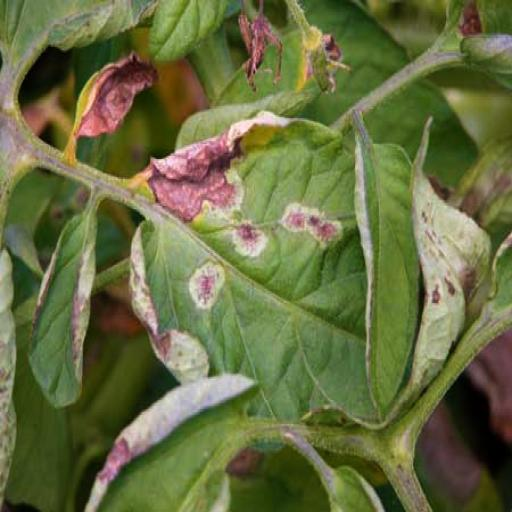disease_tomato: (123, 98, 488, 426), (84, 369, 260, 512), (24, 204, 98, 412), (70, 51, 160, 147)
